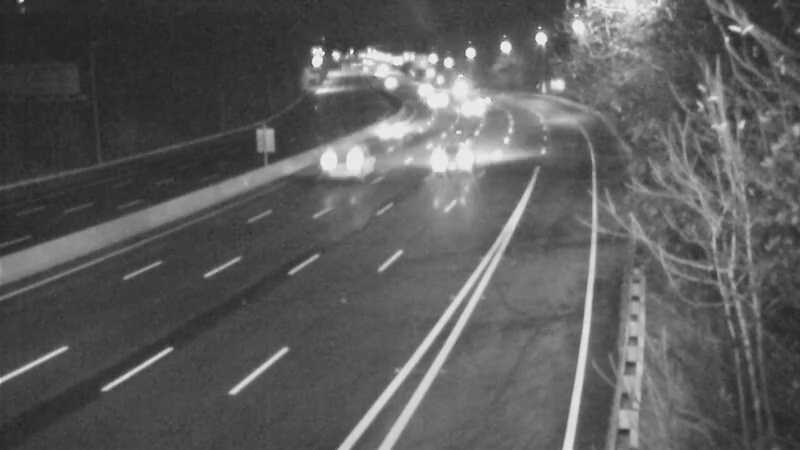vehicle: (420, 116, 500, 196), (303, 122, 383, 202), (400, 65, 450, 115), (430, 68, 480, 118), (404, 72, 454, 122), (441, 83, 491, 133), (372, 105, 422, 155)
